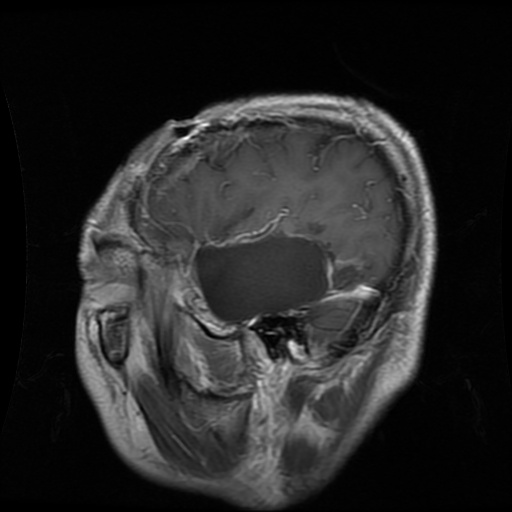glioma: (194, 235, 333, 322)
